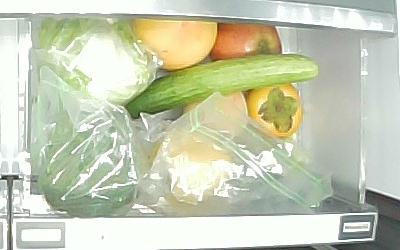apple: (210, 22, 285, 63)
broccoli_vinyl: (41, 101, 138, 218)
cucumber: (124, 52, 318, 119)
grapefruit: (130, 19, 218, 72)
lettuce_vinyl: (38, 19, 155, 102)
paprika_vinyl: (147, 129, 228, 204)
peach: (183, 85, 247, 143)
persimmon: (247, 81, 305, 139)
